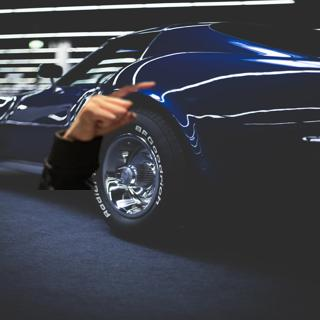WHY: (62, 79, 159, 141)
